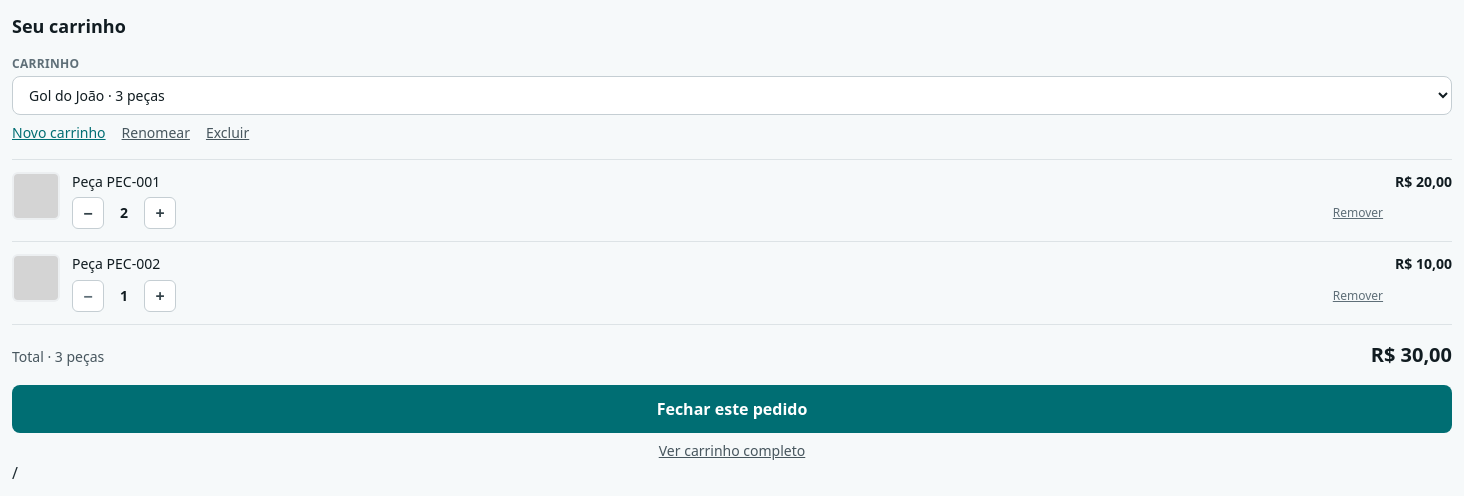
Test case: PainelCarrinho: editar itens › carrinho apagado em outra aba (404): o painel se resincroniza com o servidor
Expected: the link "Peça PEC-001" is shown, [72,172,160,191]
Click the button named "Aumentar quantidade de Peça PEC-001". click: (160, 213)
box: [144,197,176,229]
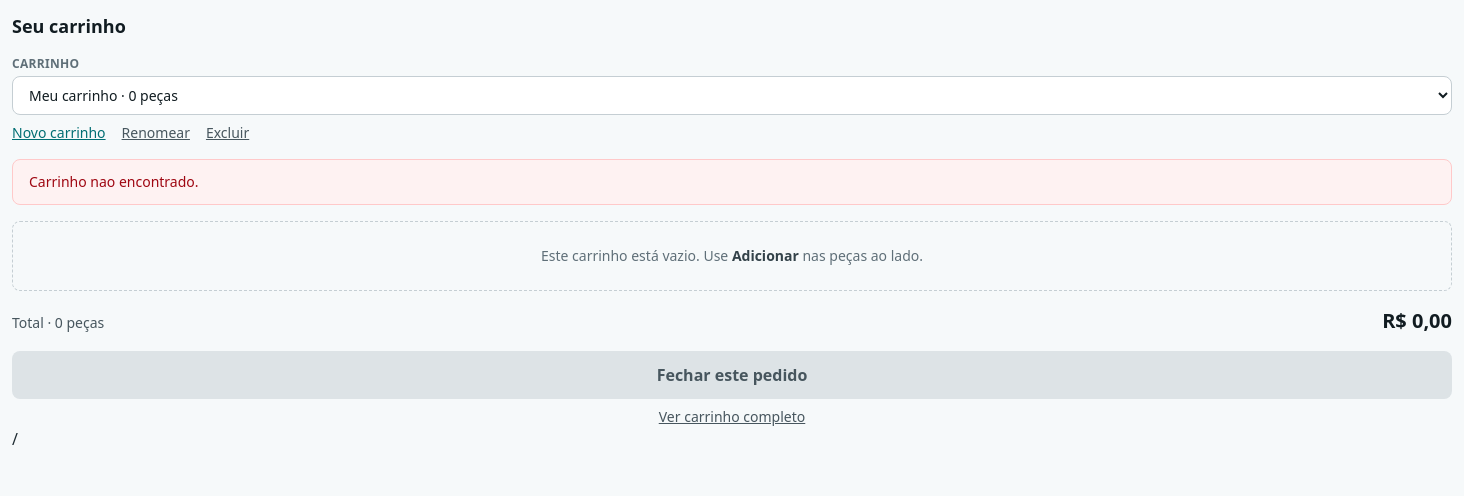
Expected: the text "Este carrinho está vazio. Use Adicionar nas peças ao lado." is shown, [12,221,1452,291]
Expected: the dropdown labelled "Carrinho" shows "Meu carrinho · 0 peças", [12,76,1452,115]
